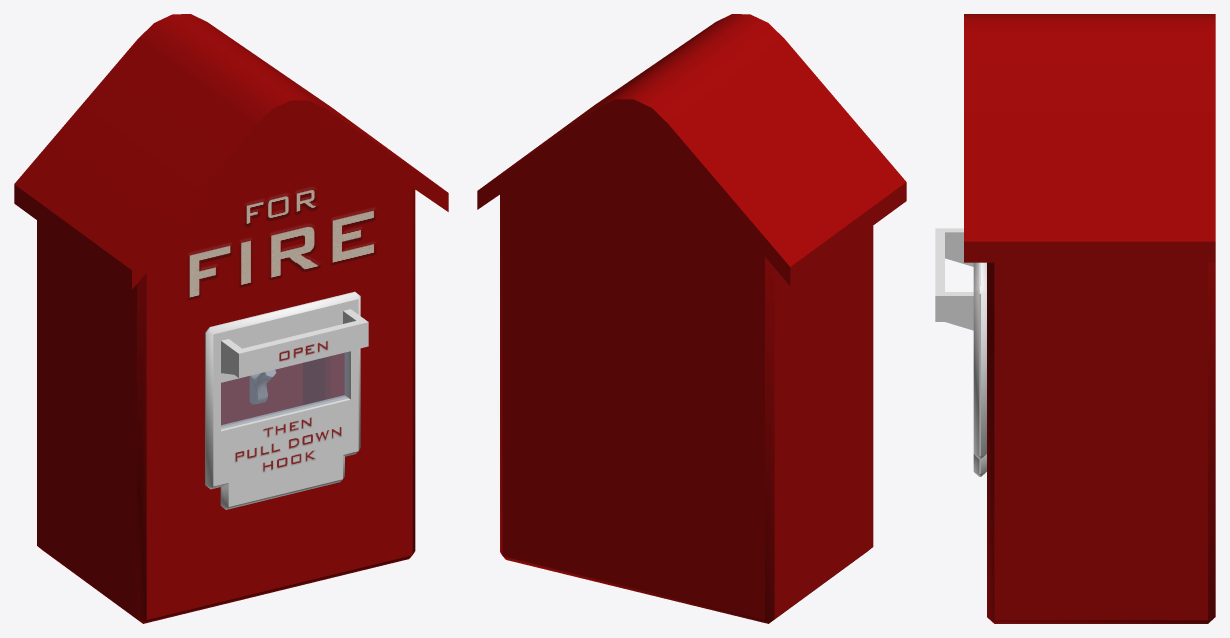
Rendered from brandalarm muur.dae.
3 renders of one model, left to right at view 1: azimuth 30°, elevation 25°; view 2: azimuth 150°, elevation 25°; view 3: azimuth 270°, elevation 25°, orthographic. The views are drawn at different scales.
Parts seen in each view (by area): view 1: brandalarm (×3), brandalarm_hendel (×5), hendel_glas (×2); view 2: brandalarm; view 3: brandalarm, brandalarm_hendel (×2).
Boxes of the visible parts, x1=… form: brandalarm (×3): x1=14, y1=14, x2=448, y2=623; brandalarm_hendel (×5): x1=205, y1=291, x2=368, y2=509; hendel_glas (×2): x1=221, y1=352, x2=348, y2=429; brandalarm: x1=477, y1=14, x2=906, y2=623; brandalarm: x1=964, y1=14, x2=1215, y2=623; brandalarm_hendel (×2): x1=935, y1=228, x2=986, y2=476.
Size of the model in its own units: 0.2572 by 0.1845 by 0.389.
5 materials, 2 textured.
